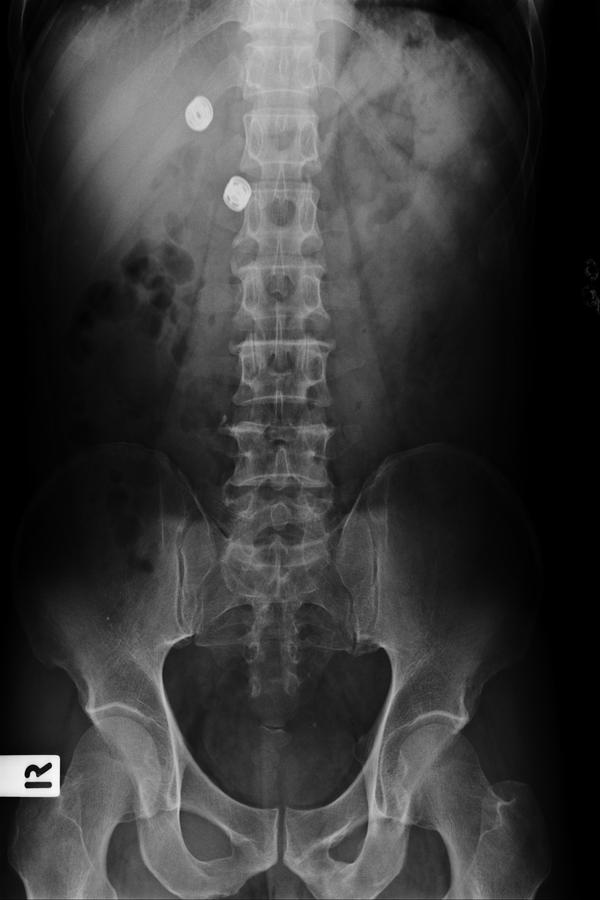not lumbar scoliosis: (226, 201, 333, 551)
